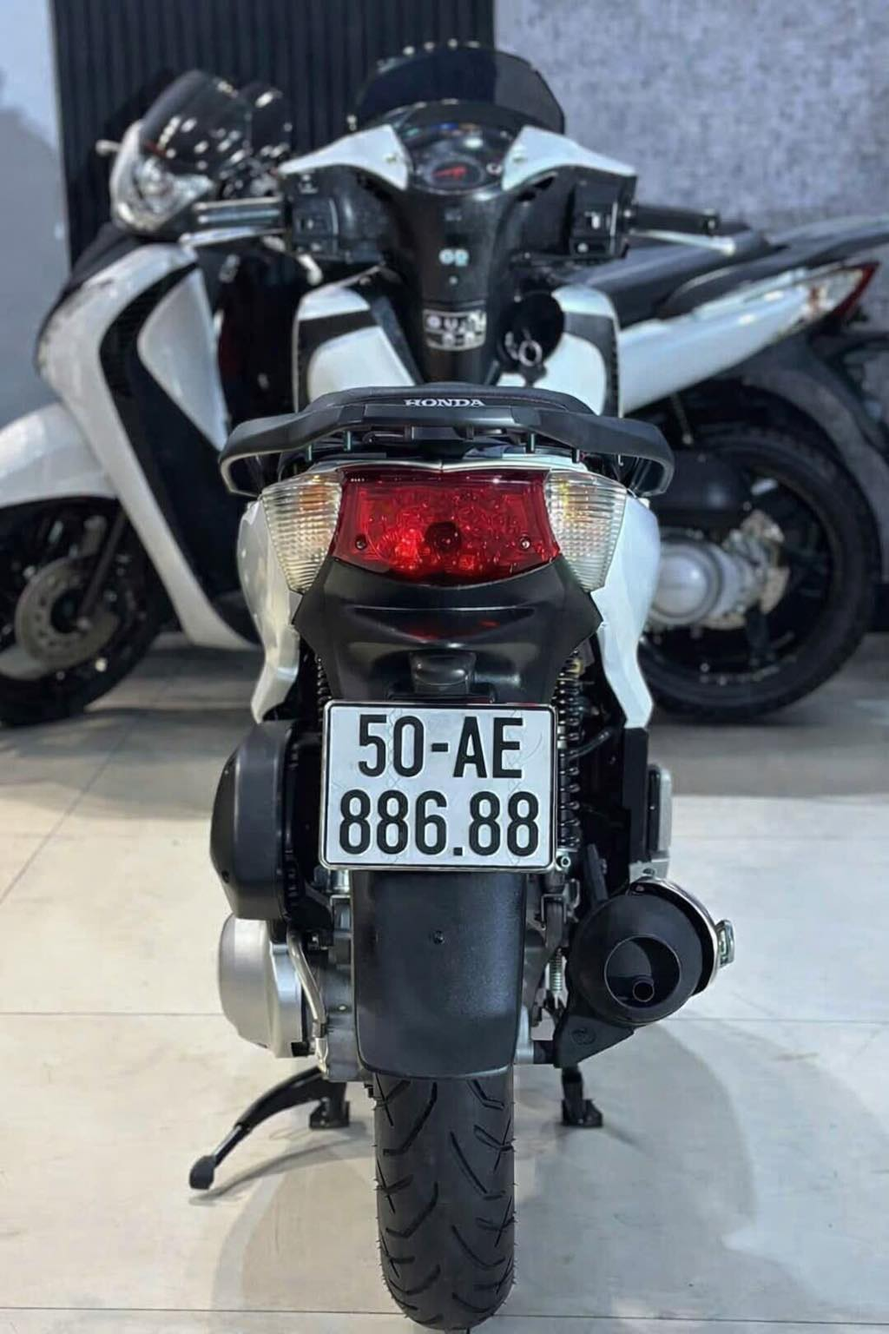bien_so: (309, 686, 575, 879)
